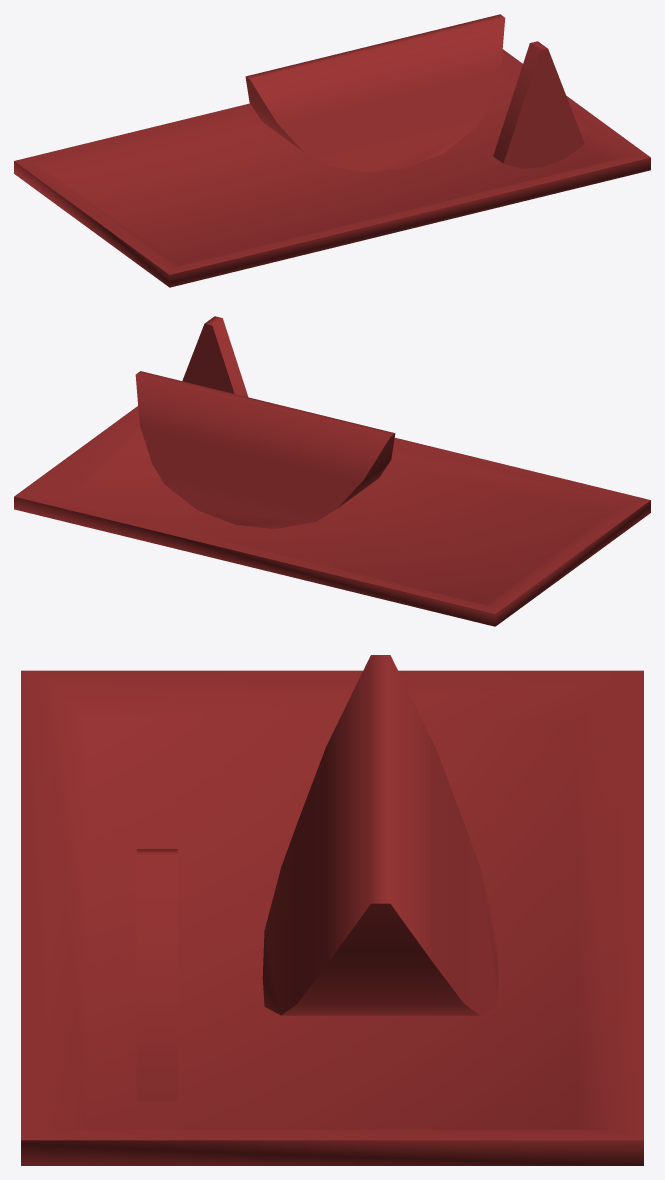
The model's file is prop01_watermelon_01.fbx.
3 renders of one model, top to bottom at view 1: azimuth 30°, elevation 25°; view 2: azimuth 150°, elevation 25°; view 3: azimuth 270°, elevation 25°, orthographic. The views are drawn at different scales.
Visible parts, largest first — view 1: Box042, Object031; view 2: Box042, Object031; view 3: Box042, Object031.
Part boxes in pixels (x1=…): Box042: x1=14, y1=49, x2=650, y2=287; Object031: x1=245, y1=14, x2=584, y2=172; Box042: x1=14, y1=406, x2=650, y2=626; Object031: x1=135, y1=316, x2=395, y2=529; Box042: x1=21, y1=670, x2=643, y2=1165; Object031: x1=136, y1=655, x2=498, y2=1101.
Size of the model in its own units: 57.72 by 14.89 by 32.34.
